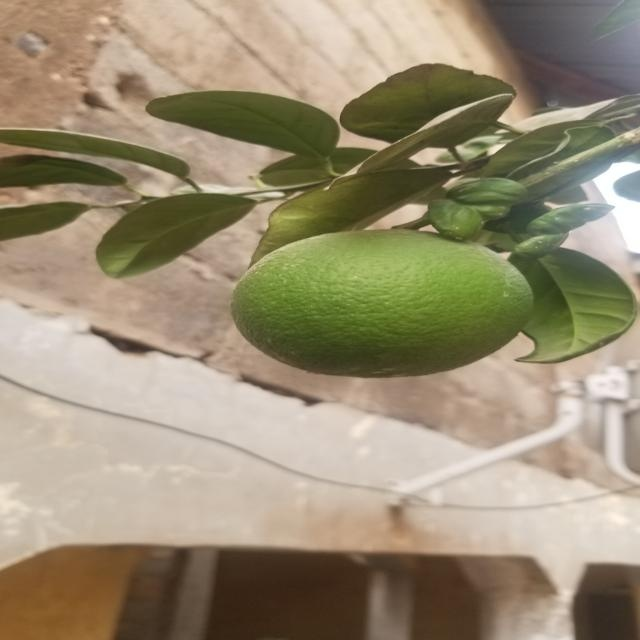agrume: (219, 229, 555, 392)
